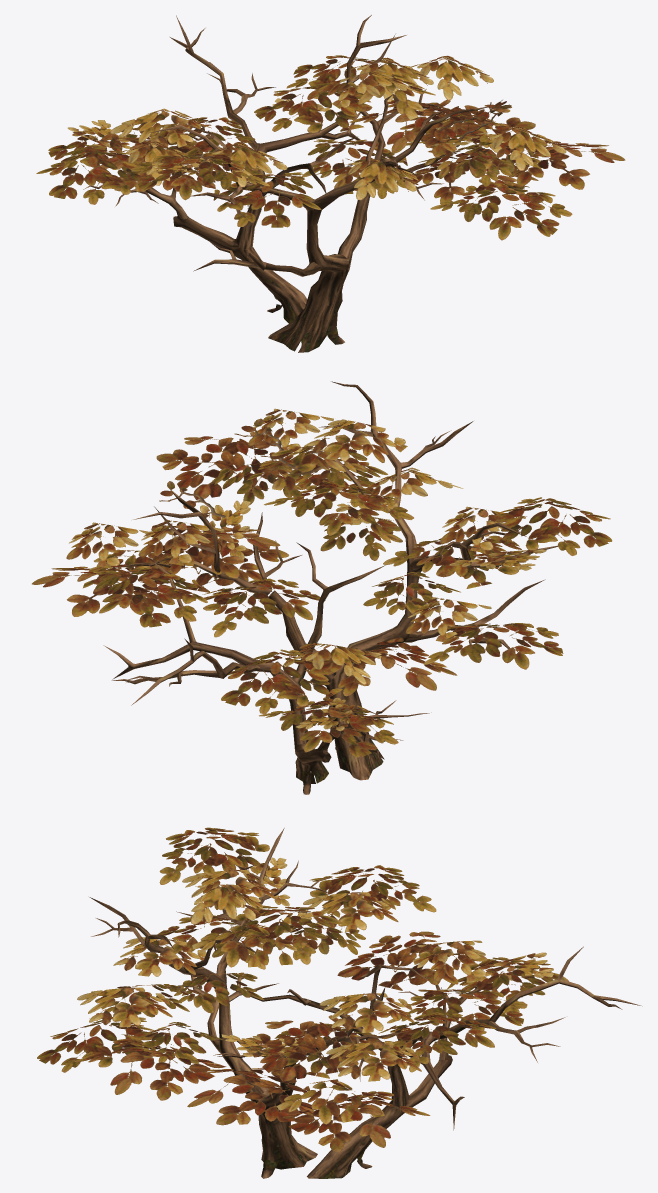
Rendered from dx_shu_2.FBX.
The picture shows the model from 3 angles, top to bottom: view 1: azimuth 30°, elevation 25°; view 2: azimuth 150°, elevation 25°; view 3: azimuth 270°, elevation 25°; orthographic projection. The views are drawn at different scales.
Visible parts, largest first — view 1: dx_shu_2; view 2: dx_shu_2; view 3: dx_shu_2.
Part boxes in pixels (x1,y1,x2,y2): dx_shu_2: [36, 15, 625, 352]; dx_shu_2: [32, 381, 612, 794]; dx_shu_2: [37, 827, 642, 1178].
Bounding box in the file's own units: 622 × 322 × 624.
